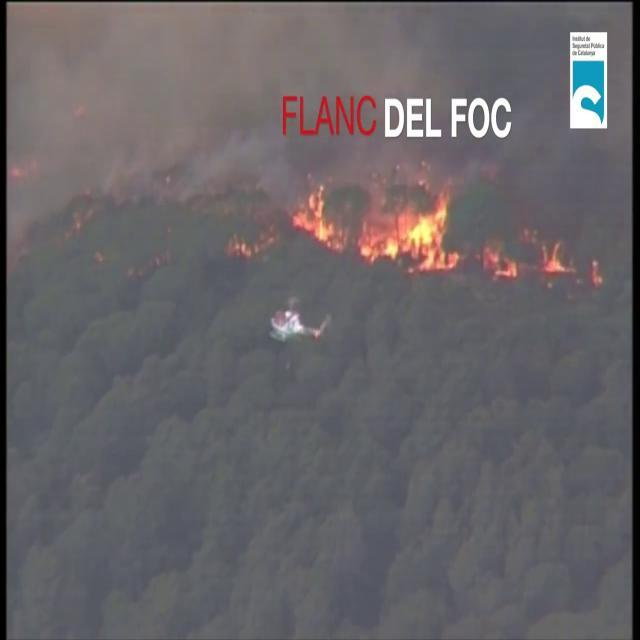Fire: (359, 188, 459, 274), (476, 230, 580, 286), (289, 178, 340, 250)
Smoke: (14, 2, 604, 226)
